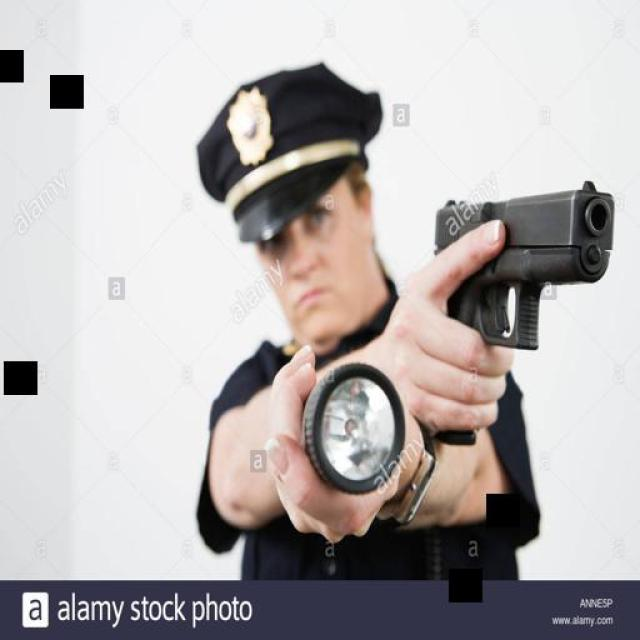gun: (432, 176, 612, 444)
